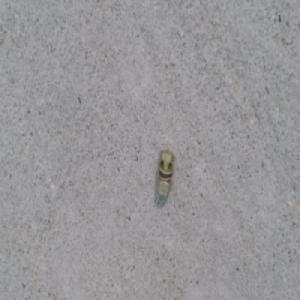BoltNutSet: (155, 152, 173, 199)
